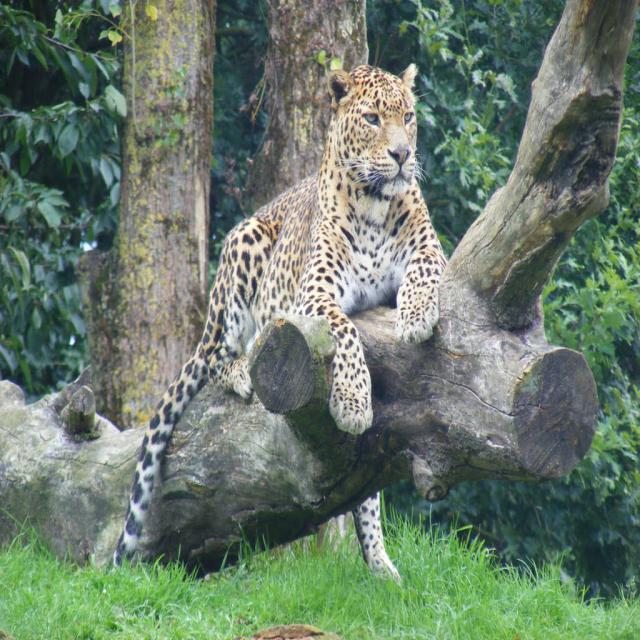Cheetah: (107, 38, 447, 590)
